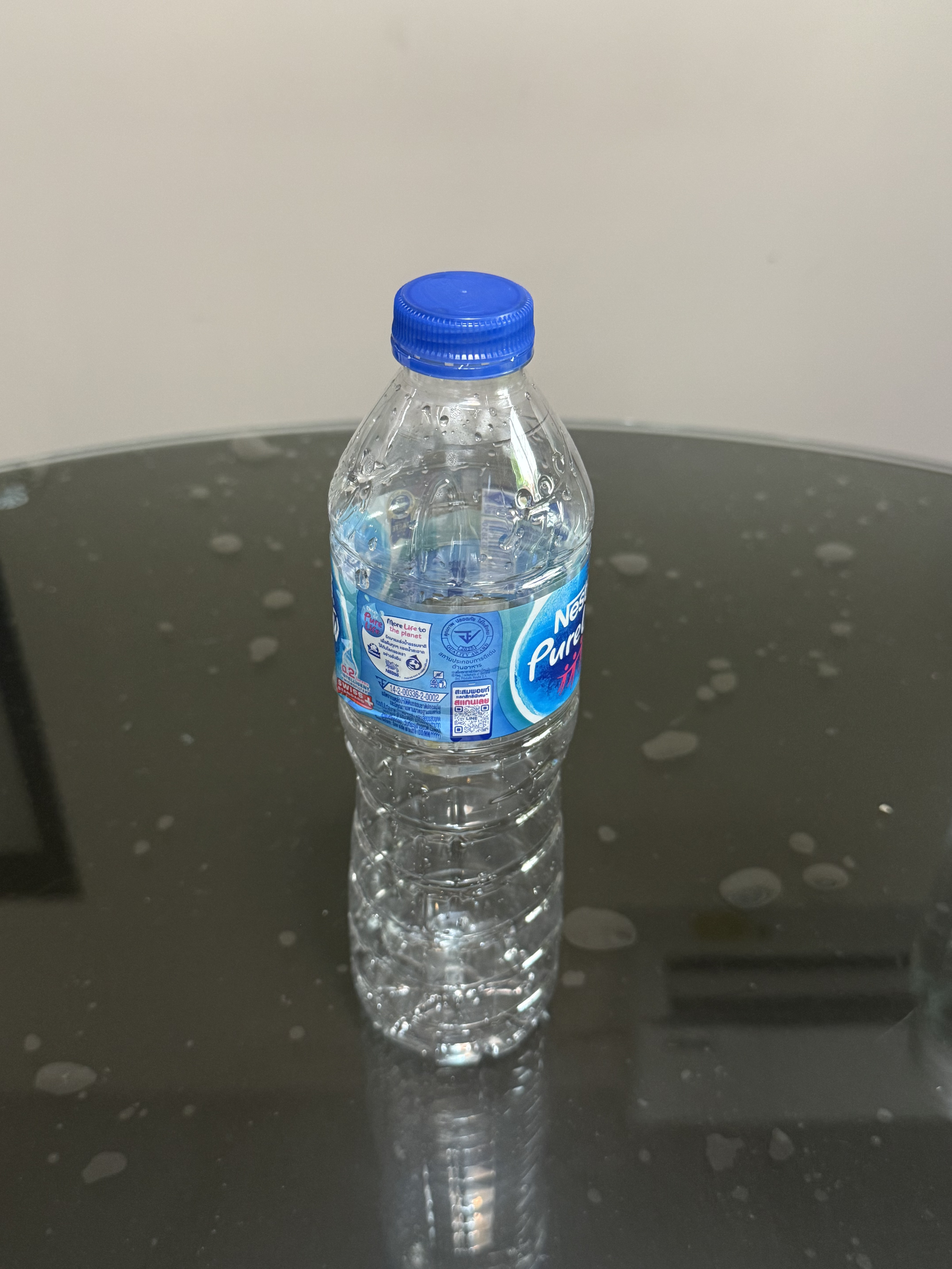closed_cap: (389, 267, 536, 378)
